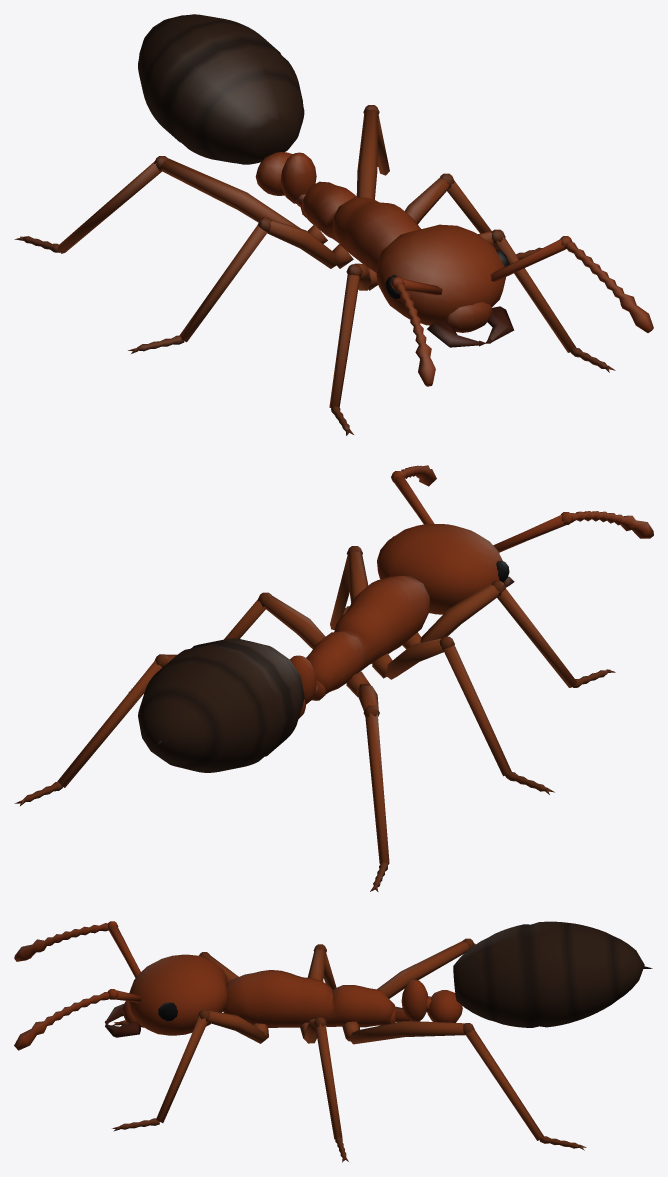
File: FireAnt.fbx
The picture shows the model from 3 angles, top to bottom: view 1: azimuth 30°, elevation 25°; view 2: azimuth 150°, elevation 25°; view 3: azimuth 270°, elevation 25°; orthographic projection. The views are drawn at different scales.
Visible parts, largest first — view 1: FireAnt; view 2: FireAnt; view 3: FireAnt.
Boxes of the visible parts, x1,y1,x2,y2 form: FireAnt: [14, 14, 653, 435]; FireAnt: [14, 465, 653, 891]; FireAnt: [14, 921, 652, 1162].
Bounding box in the file's own units: 0.8922 × 0.3632 × 1.41.
